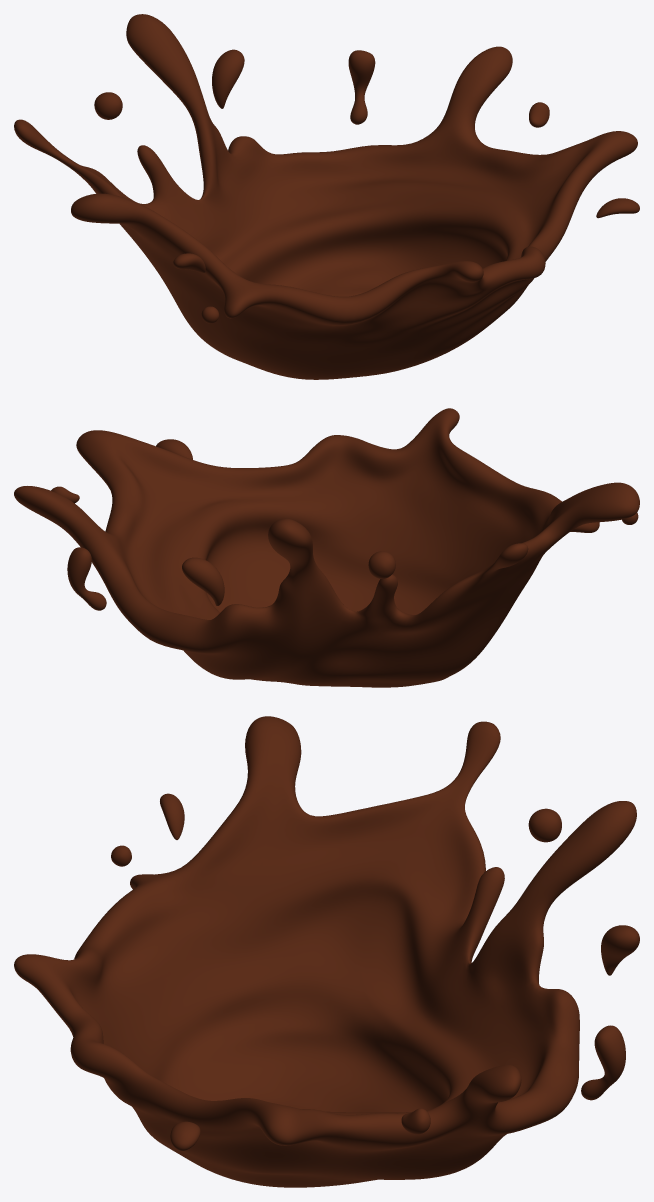
The model's file is student-01.glb.
3 renders of one model, top to bottom at view 1: azimuth 30°, elevation 25°; view 2: azimuth 150°, elevation 25°; view 3: azimuth 270°, elevation 25°, orthographic. The views are drawn at different scales.
Parts seen in each view (by area): view 1: Chocolate_Splash_Free_005; view 2: Chocolate_Splash_Free_005; view 3: Chocolate_Splash_Free_005.
Part boxes in pixels (<box>): Chocolate_Splash_Free_005: <box>14,14,639,379</box>; Chocolate_Splash_Free_005: <box>14,408,639,687</box>; Chocolate_Splash_Free_005: <box>14,716,639,1187</box>.
Bounding box in the file's own units: 0.5148 × 0.2237 × 0.4105.
Materials: 1 (1 with a texture image).
